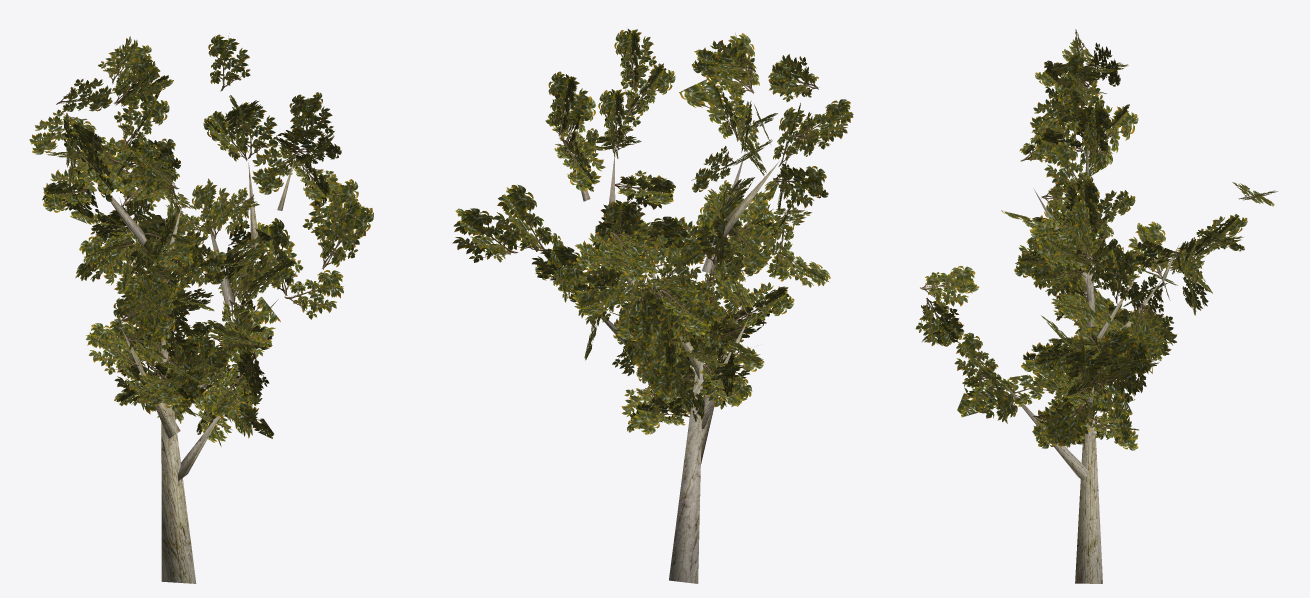
File: Tree1LOD2.fbx
3 renders of one model, left to right at view 1: azimuth 30°, elevation 25°; view 2: azimuth 150°, elevation 25°; view 3: azimuth 270°, elevation 25°, orthographic. The views are drawn at different scales.
Visible parts, largest first — view 1: Tree1lod1.001; view 2: Tree1lod1.001; view 3: Tree1lod1.001.
Part boxes in pixels (x1,y1,x2,y2): Tree1lod1.001: (29, 33, 373, 583); Tree1lod1.001: (452, 29, 853, 583); Tree1lod1.001: (915, 29, 1277, 583).
Size of the model in its own units: 2951 by 4138 by 2827.
